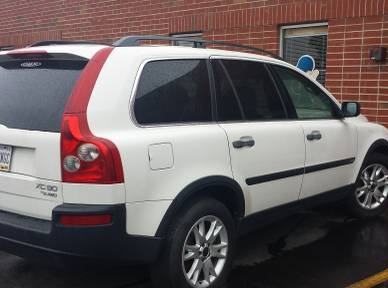volvo: (1, 24, 388, 287)
